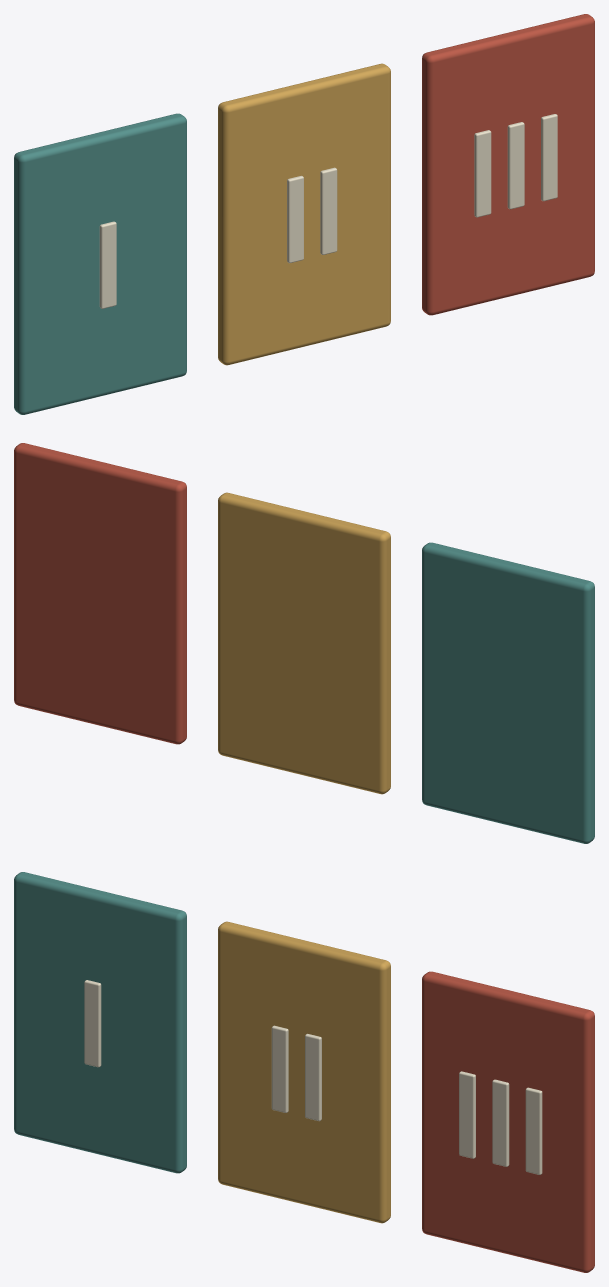
The model's file is cards.glb.
The picture shows the model from 3 angles, top to bottom: view 1: azimuth 30°, elevation 25°; view 2: azimuth 150°, elevation 25°; view 3: azimuth 330°, elevation 25°; orthographic projection.
Parts seen in each view (by area): view 1: cards; view 2: cards; view 3: cards.
Boxes of the visible parts, x1,y1,x2,y2 form: cards: (14, 14, 594, 414); cards: (14, 443, 594, 843); cards: (14, 872, 594, 1272).
Size of the model in its own units: 1.3 by 0.56 by 0.0525.
